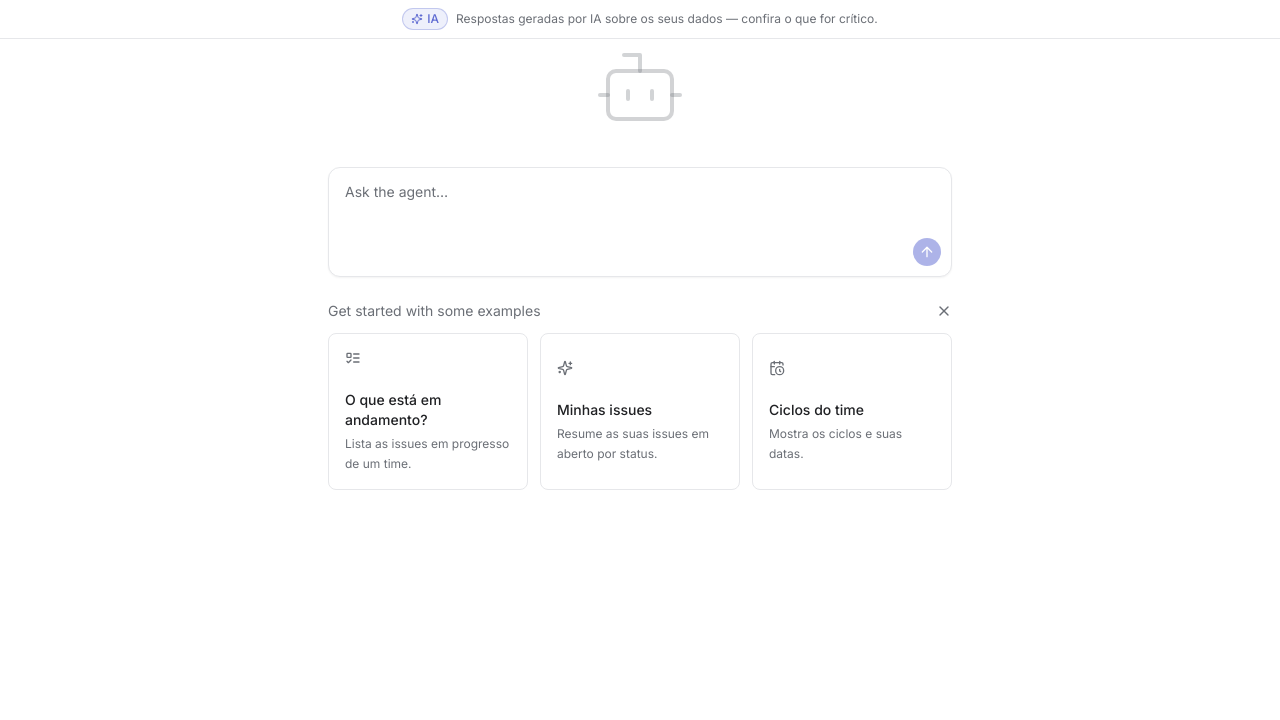
Test: AgentChat — parar resposta em voo › Esc também para a resposta em voo
Type "Oi" into the text box with placeholder "Ask the agent…" at {"x": 640, "y": 200}, box x1=329 y1=168 x2=951 y2=232
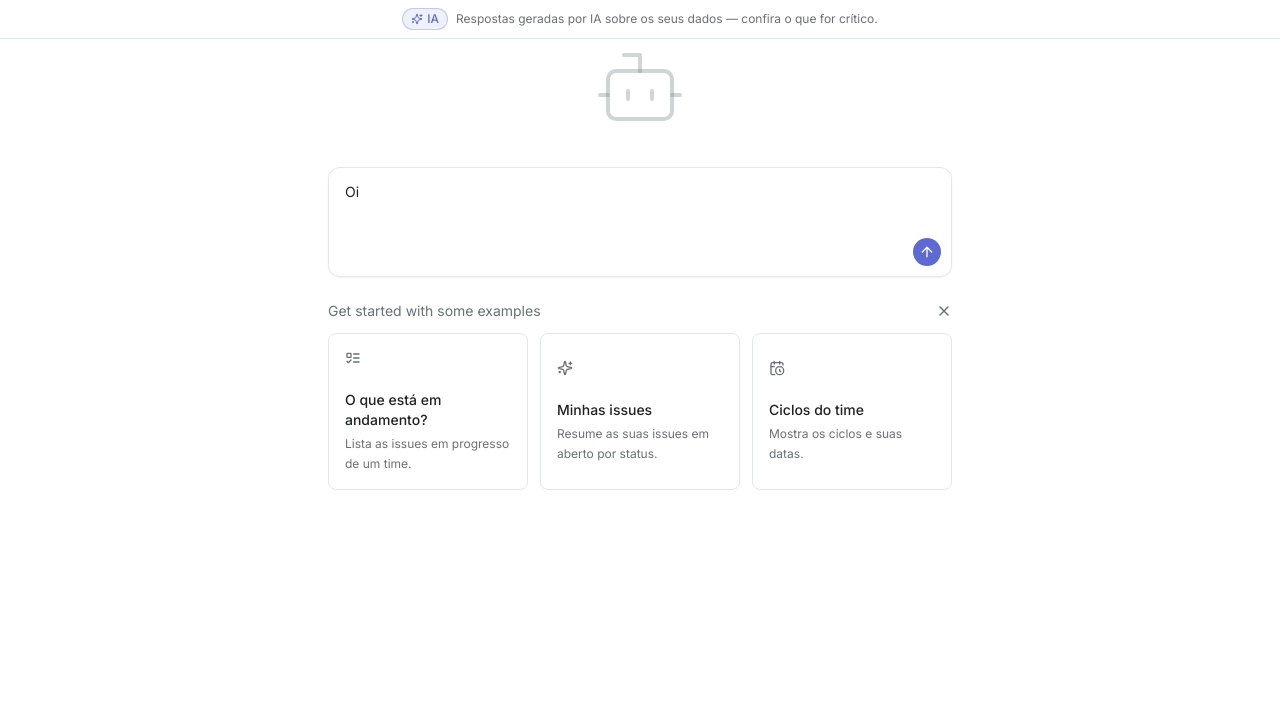
Press Enter in the text box with placeholder "Ask the agent…", box x1=329 y1=168 x2=951 y2=232
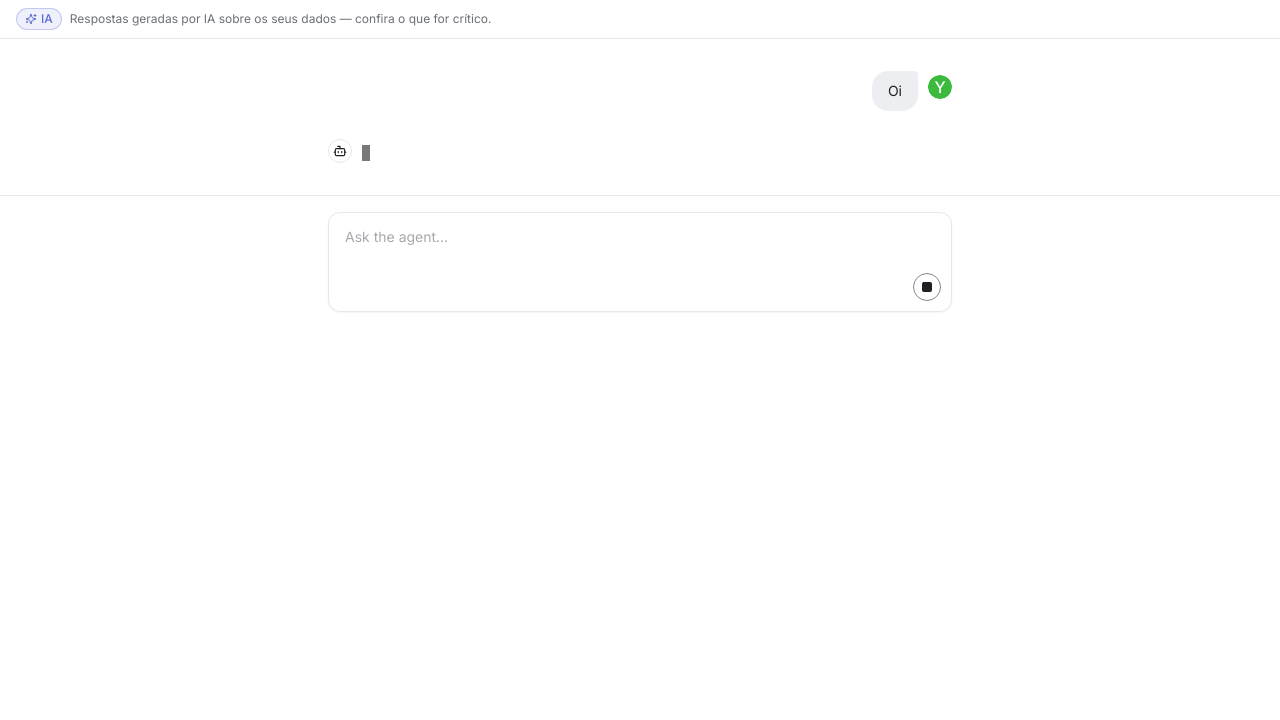
Press Escape
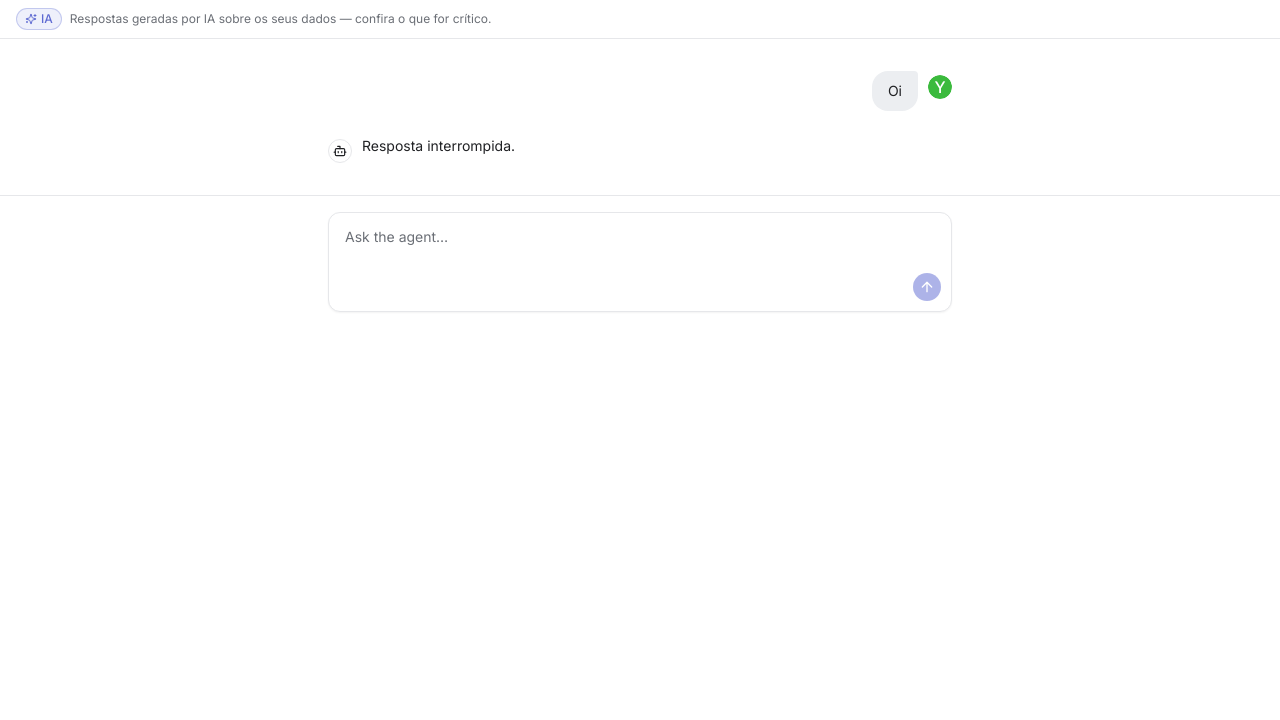
Expected: the text "Resposta interrompida." is shown, x1=362 y1=137 x2=515 y2=154
